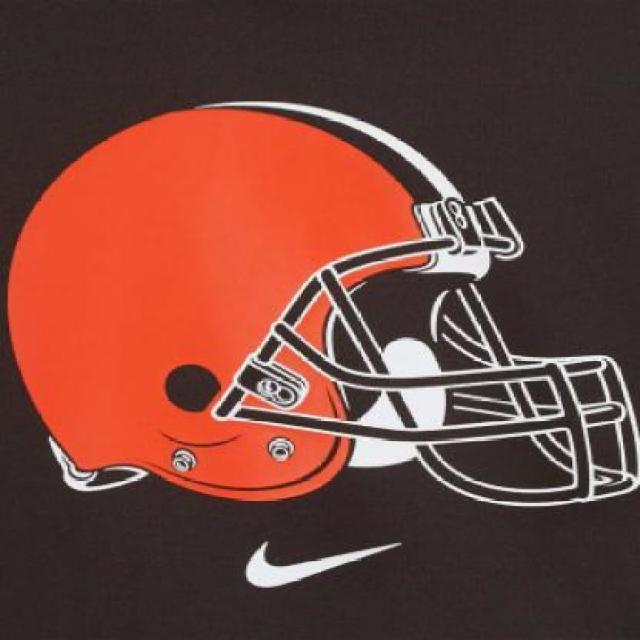Nike: (224, 528, 415, 590)
